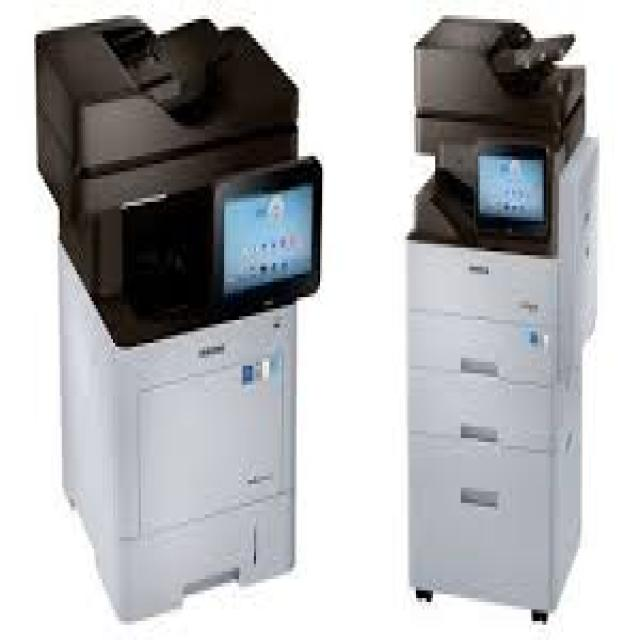printer: (31, 11, 329, 611), (408, 11, 604, 620)
